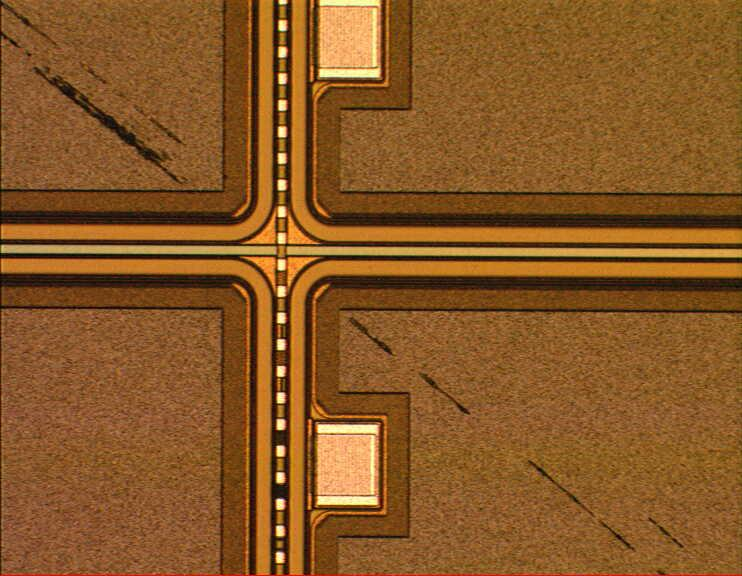SCRATCH: (1, 2, 730, 576)
